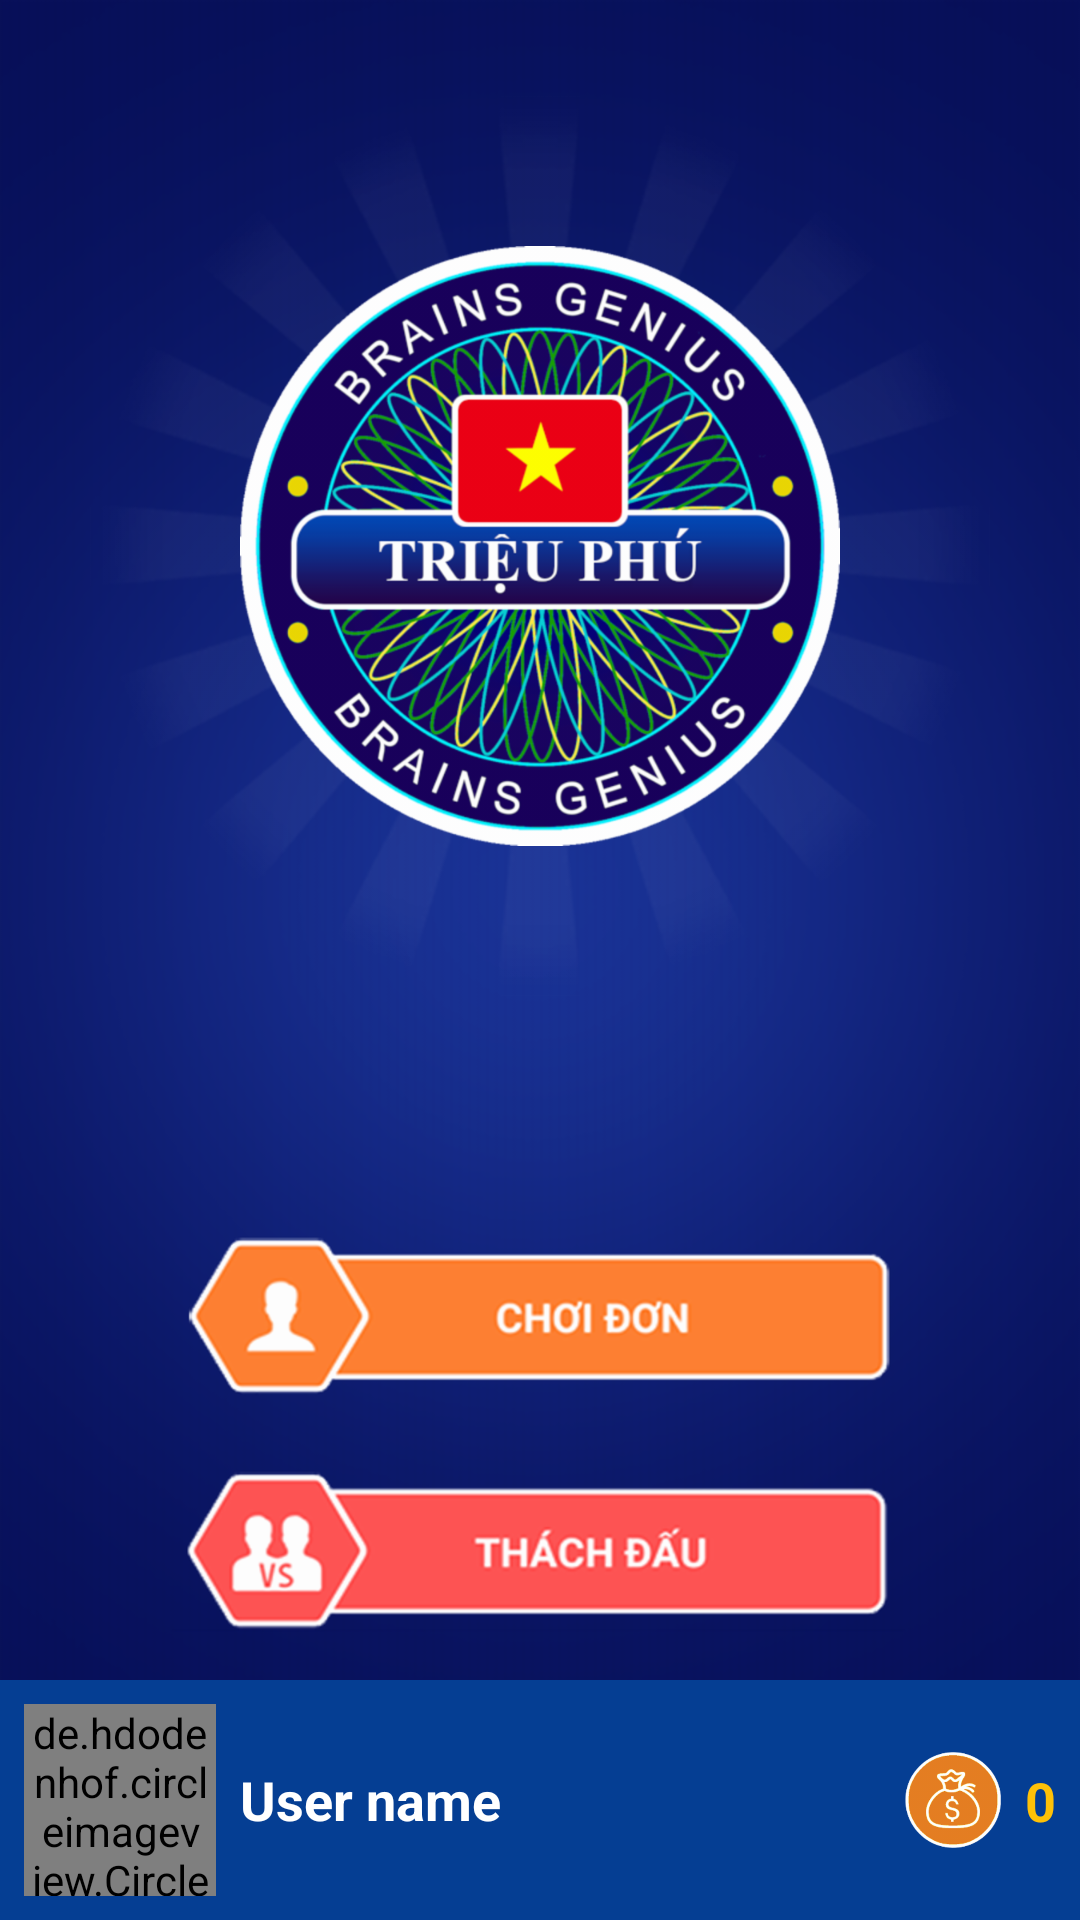

Screen size 1080px×1920px. Icon name, then its box in pixels as [x1,y1,x2,y2]:
money: [905,1752,1001,1848]
